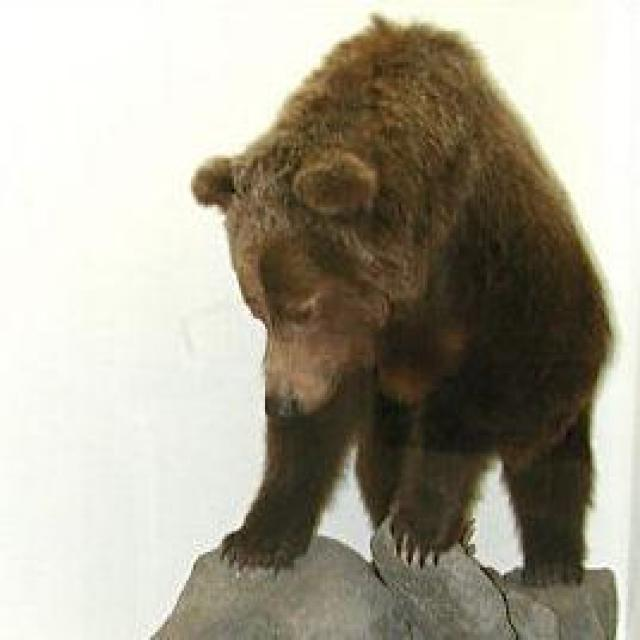Bear: (189, 21, 614, 593)
